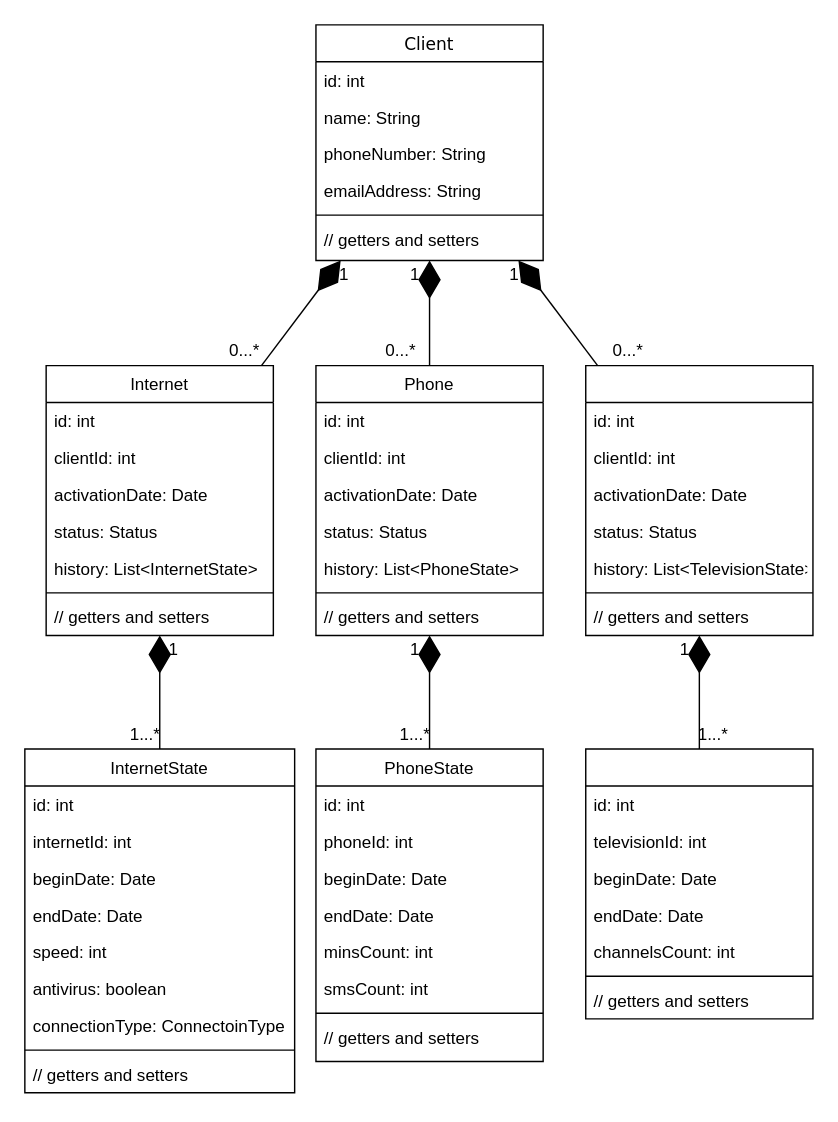
Some shapes in this 838 by 1122 pixel diagram are drawn without their labels. Here are the shapes that lost their labels. From the top down, the box of each, then its label:
(584, 364, 813, 635): Television
(584, 748, 813, 1019): TelevisionState
